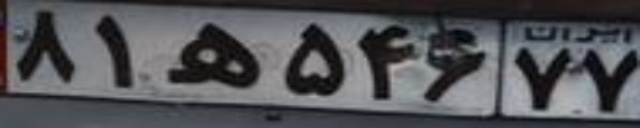1: (92, 14, 137, 88)
4: (354, 23, 414, 102)
5: (283, 21, 346, 96)
6: (423, 28, 486, 103)
7: (509, 43, 575, 111), (579, 45, 638, 111)
8: (13, 11, 73, 82)
he: (164, 22, 260, 87)
